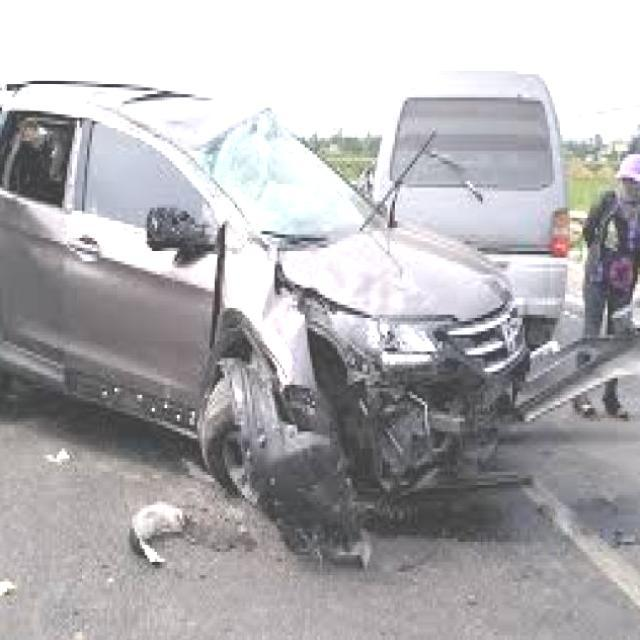accident: (0, 60, 553, 567)
